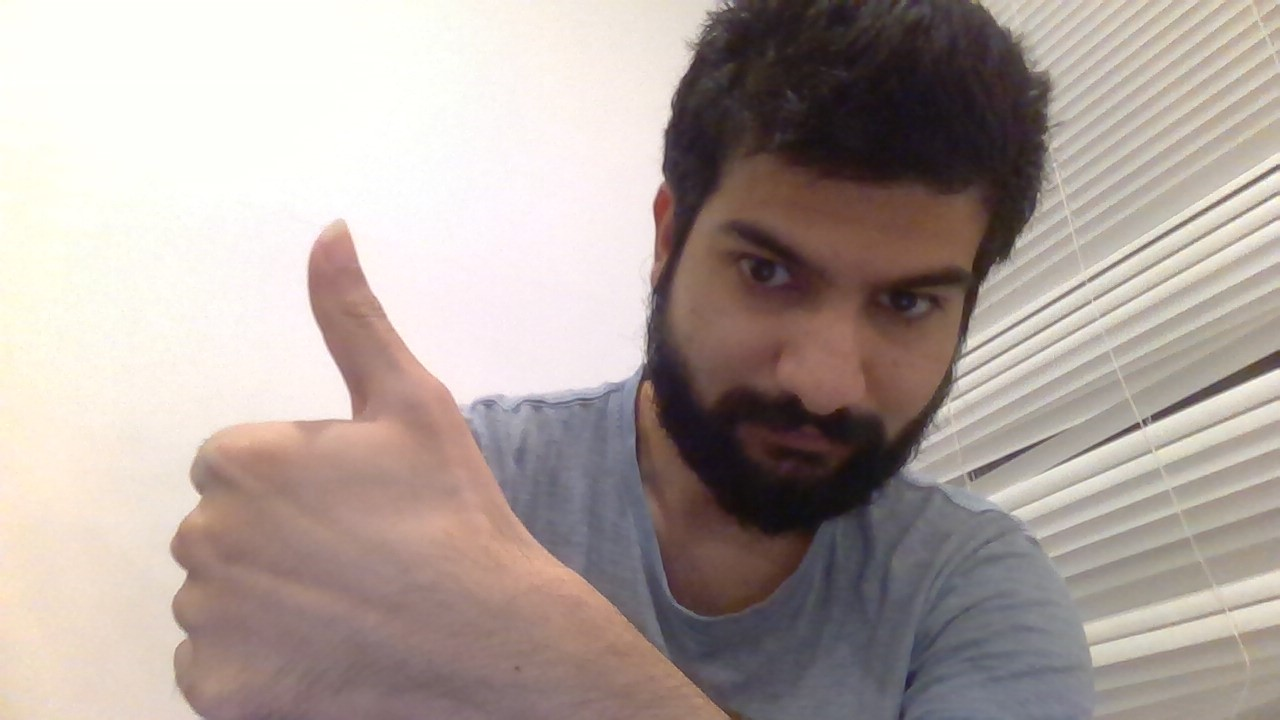up: (139, 208, 493, 720)
